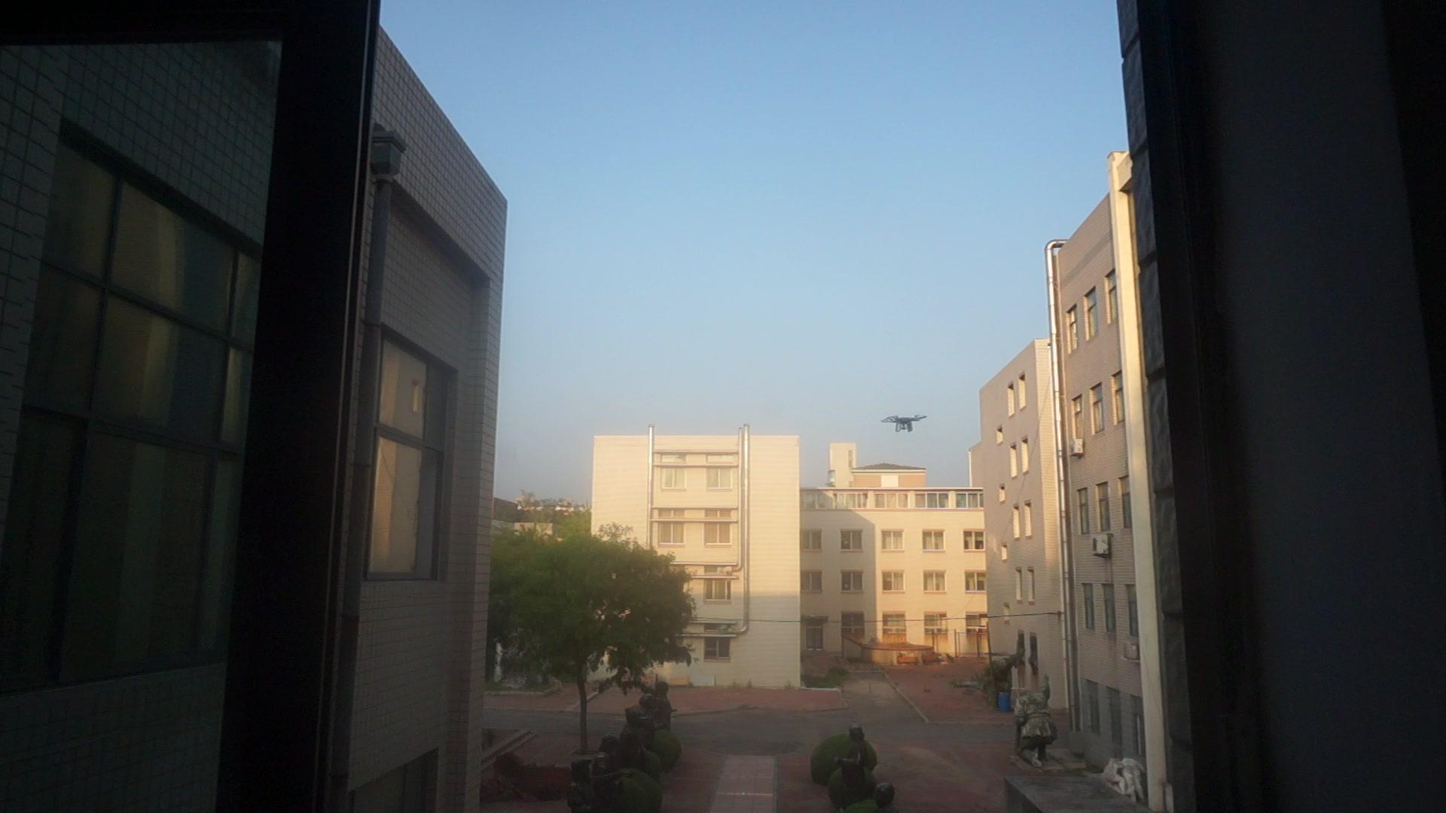UAV: (881, 415, 928, 434)
